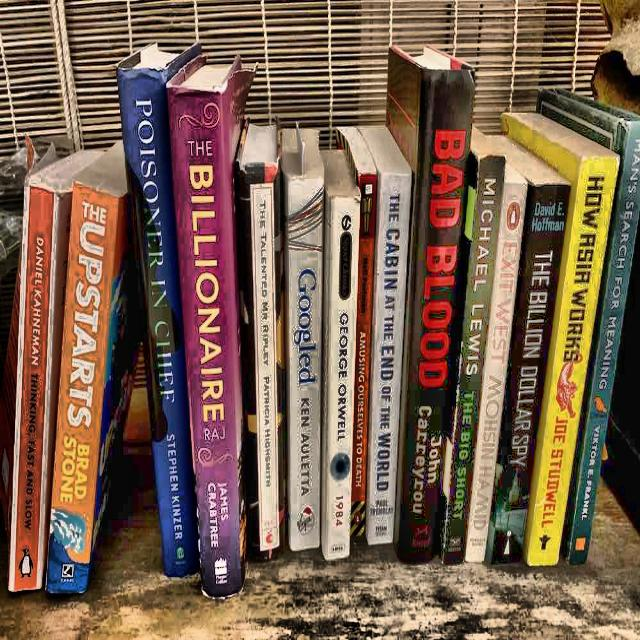Books: (502, 113, 619, 565), (538, 91, 640, 563), (168, 56, 252, 597), (388, 46, 474, 563), (118, 44, 200, 575), (45, 143, 135, 595), (8, 153, 99, 591), (486, 137, 570, 563), (440, 129, 505, 563), (466, 165, 528, 562), (235, 125, 285, 560), (360, 127, 411, 546), (281, 129, 324, 552), (336, 127, 378, 536), (321, 151, 360, 560)
